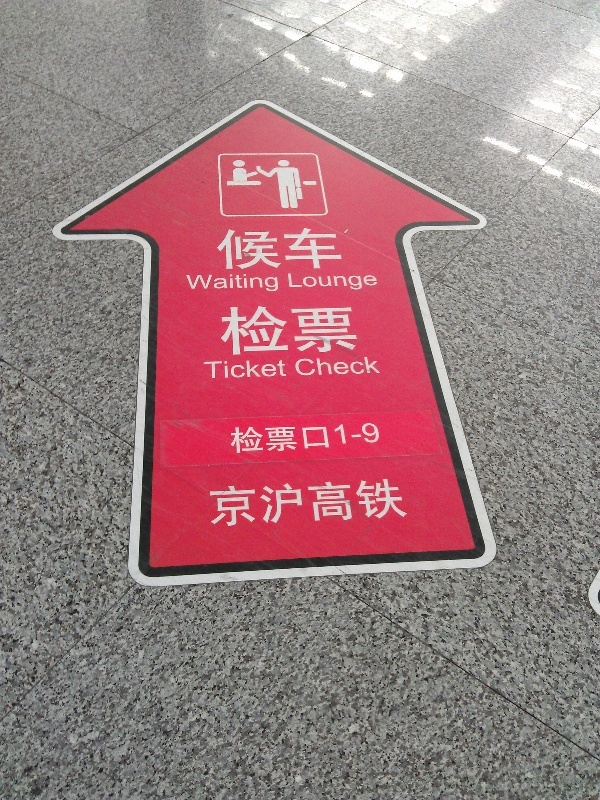text: (225, 303, 240, 358), (241, 303, 256, 358), (257, 303, 272, 358), (273, 303, 288, 358), (289, 303, 304, 358), (305, 303, 320, 358), (321, 303, 336, 358), (337, 303, 352, 358), (209, 477, 224, 529), (225, 477, 240, 529), (241, 477, 256, 529), (257, 477, 272, 529), (273, 477, 288, 529), (289, 477, 304, 529), (305, 477, 320, 529), (321, 477, 336, 529), (337, 477, 352, 529), (353, 477, 368, 529), (369, 477, 384, 529), (385, 477, 400, 529), (225, 227, 240, 270), (241, 227, 256, 270), (257, 227, 272, 270), (273, 227, 288, 270), (289, 227, 304, 270), (305, 227, 320, 270), (321, 227, 336, 270), (401, 477, 411, 529), (337, 227, 349, 270), (241, 421, 256, 455), (257, 421, 272, 455), (273, 421, 288, 455), (289, 421, 304, 455), (305, 421, 320, 455), (321, 421, 336, 455), (337, 421, 352, 455), (353, 421, 368, 455), (369, 421, 384, 455), (353, 303, 362, 358), (213, 227, 224, 270), (229, 421, 240, 455), (193, 272, 208, 295), (209, 272, 224, 295), (225, 272, 240, 295), (241, 272, 256, 295), (257, 272, 272, 295), (305, 355, 320, 378), (321, 355, 336, 378), (337, 355, 352, 378), (353, 355, 368, 378), (218, 303, 224, 358), (209, 359, 224, 381), (225, 359, 240, 381), (241, 359, 256, 381), (257, 359, 272, 381), (273, 359, 288, 381), (289, 271, 304, 292), (305, 271, 320, 292), (321, 271, 336, 292), (337, 271, 352, 292), (353, 271, 368, 292), (369, 355, 382, 378), (369, 271, 379, 292), (295, 355, 304, 378), (273, 272, 281, 295), (186, 272, 192, 295), (202, 359, 208, 381), (289, 359, 290, 381)
